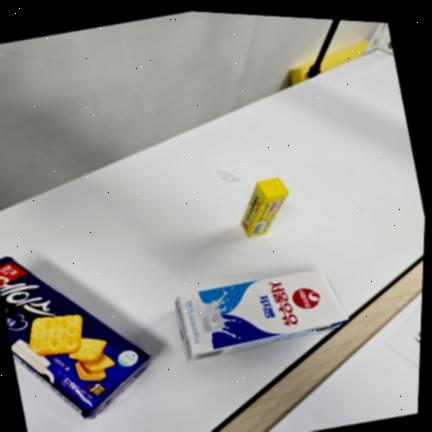cracker_ace: (0, 257, 151, 418)
gum_yellow: (241, 178, 289, 237)
milk_blue: (175, 270, 348, 361)
